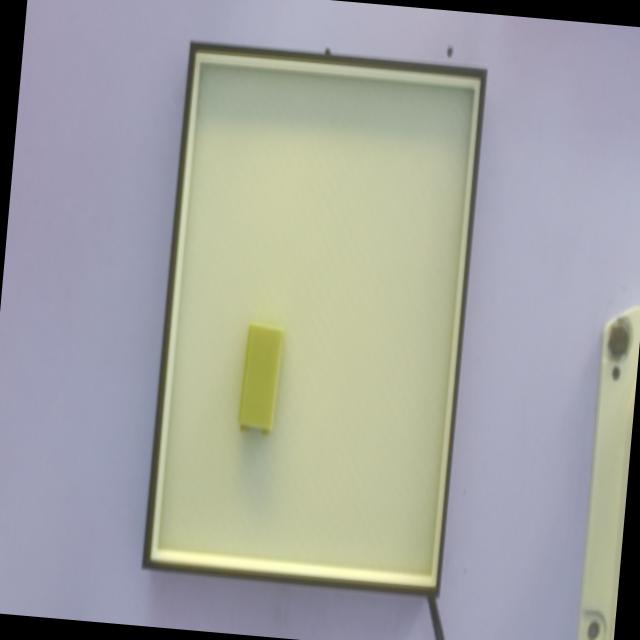bateria: (236, 319, 284, 436)
mesa: (141, 42, 487, 599)
